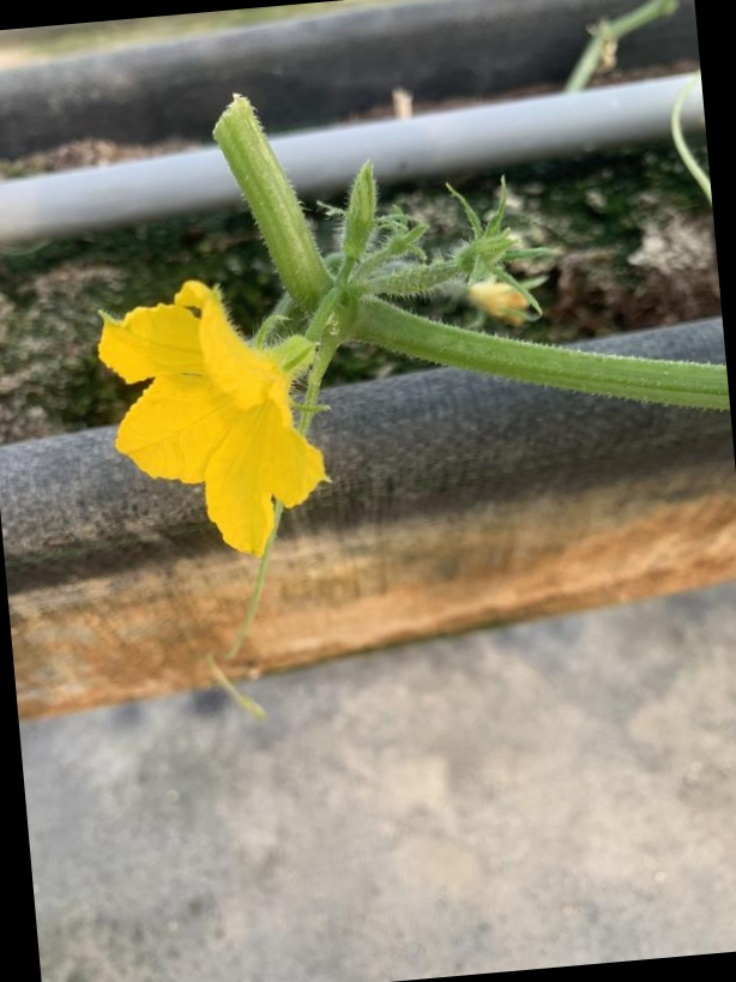flowering: (105, 266, 342, 558)
